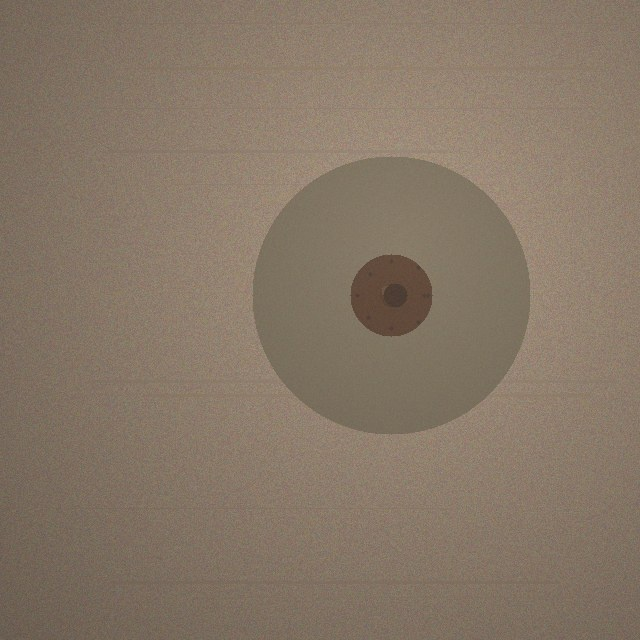cold_weld: (252, 156, 530, 434)
